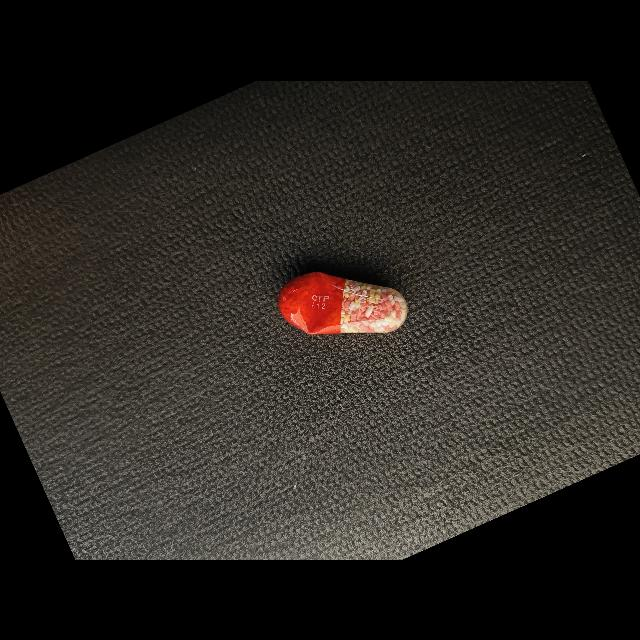Defective Capsule: (279, 271, 408, 334)
